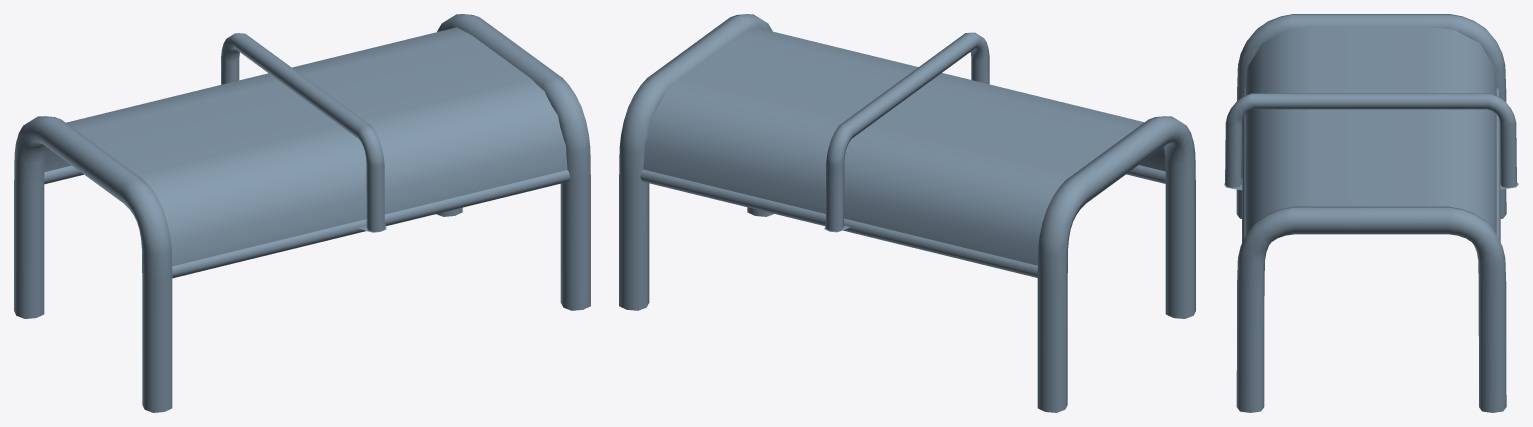
Rendered from busstop_seat.fbx.
3 views of the same model, side by side, from view 1: azimuth 30°, elevation 25°; view 2: azimuth 150°, elevation 25°; view 3: azimuth 270°, elevation 25° (orthographic). The views are drawn at different scales.
Visible parts, largest first — view 1: Busstop_seat1; view 2: Busstop_seat1; view 3: Busstop_seat1.
Boxes of the visible parts, x1,y1,x2,y2 form: Busstop_seat1: (14, 14, 590, 412); Busstop_seat1: (619, 14, 1195, 412); Busstop_seat1: (1224, 14, 1518, 412).
Bounding box in the file's own units: 180 × 88.79 × 110.
